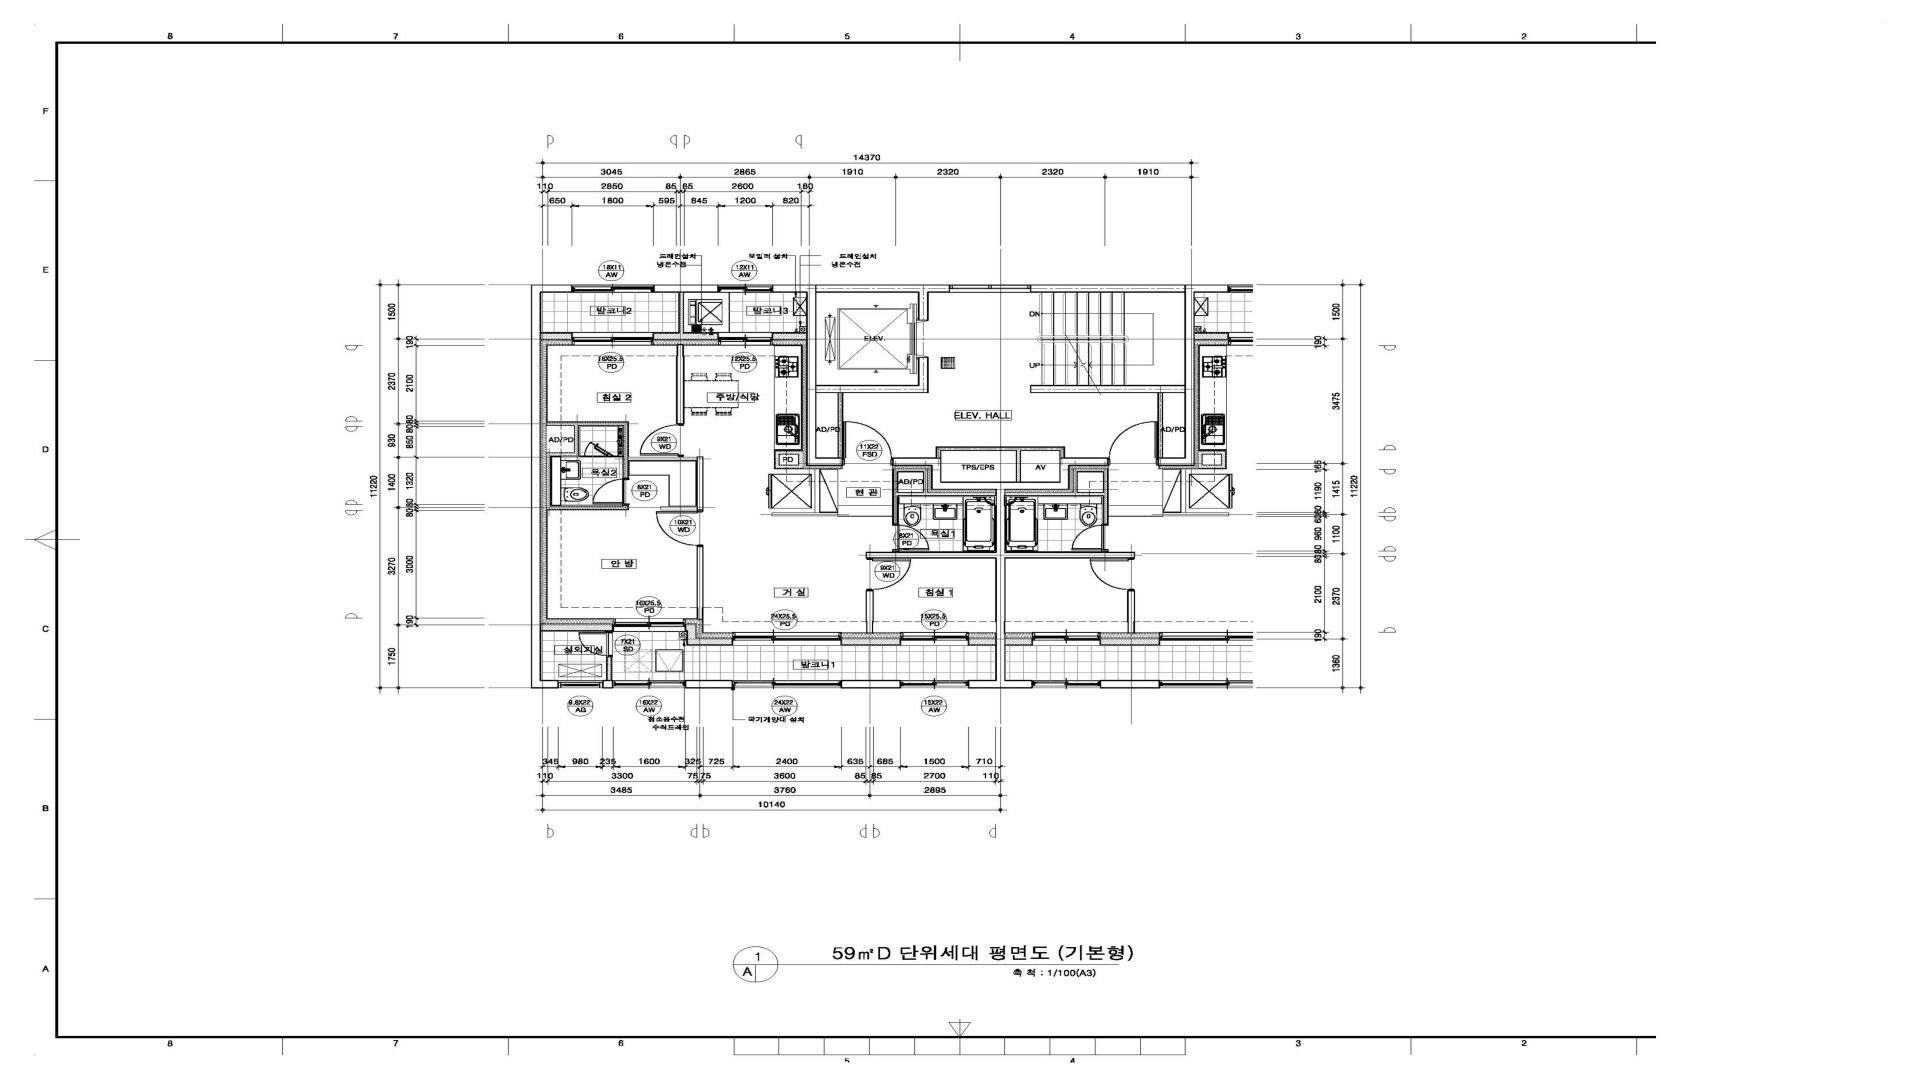door: (843, 421, 893, 465), (1109, 422, 1158, 465), (655, 510, 704, 546), (640, 423, 684, 458), (866, 558, 913, 591), (891, 524, 930, 551), (592, 477, 629, 505), (579, 632, 613, 657), (584, 442, 613, 458)
wall: (531, 293, 542, 679), (996, 489, 1006, 688), (806, 293, 816, 467), (1184, 293, 1195, 465), (773, 285, 949, 293), (942, 447, 1065, 458), (1030, 285, 1195, 293), (1030, 385, 1184, 393), (684, 624, 733, 646), (866, 551, 996, 559), (931, 481, 1059, 489), (816, 385, 928, 393), (676, 344, 684, 425), (696, 546, 704, 620), (542, 624, 613, 632), (653, 332, 719, 340), (654, 285, 717, 293), (841, 638, 901, 646), (841, 680, 901, 688), (1060, 458, 1109, 467), (546, 421, 629, 426), (696, 456, 704, 510), (837, 393, 844, 458), (891, 492, 996, 496), (553, 505, 629, 510), (684, 680, 733, 688), (546, 456, 553, 510), (866, 591, 874, 634), (1158, 393, 1163, 458), (531, 285, 572, 293), (893, 458, 931, 465), (918, 293, 928, 320), (918, 357, 928, 385), (624, 426, 629, 477), (771, 513, 837, 517), (773, 332, 806, 340), (678, 293, 684, 332), (816, 458, 844, 467), (531, 679, 559, 688), (931, 458, 942, 481), (541, 332, 572, 340), (815, 468, 820, 513), (1059, 467, 1069, 489), (968, 638, 996, 646), (1158, 458, 1184, 465), (969, 680, 996, 688), (574, 426, 580, 456), (893, 496, 899, 525), (629, 458, 696, 460), (893, 468, 928, 472), (661, 506, 696, 510), (891, 472, 898, 492), (774, 450, 781, 469), (607, 657, 612, 680), (779, 464, 803, 469), (1017, 451, 1021, 481), (546, 452, 574, 456), (923, 472, 928, 492), (779, 450, 798, 455), (603, 680, 613, 688), (798, 450, 803, 464), (936, 447, 942, 458), (613, 456, 624, 458), (580, 456, 584, 458)
window: (732, 632, 841, 646), (572, 332, 653, 345), (901, 632, 968, 646), (613, 618, 684, 632), (733, 680, 841, 688), (719, 332, 773, 345), (572, 285, 654, 293), (949, 285, 1030, 293), (613, 680, 686, 688), (901, 680, 969, 688), (717, 285, 773, 293), (559, 680, 603, 688)
